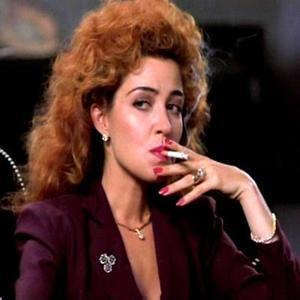cigarette: (161, 150, 193, 161)
